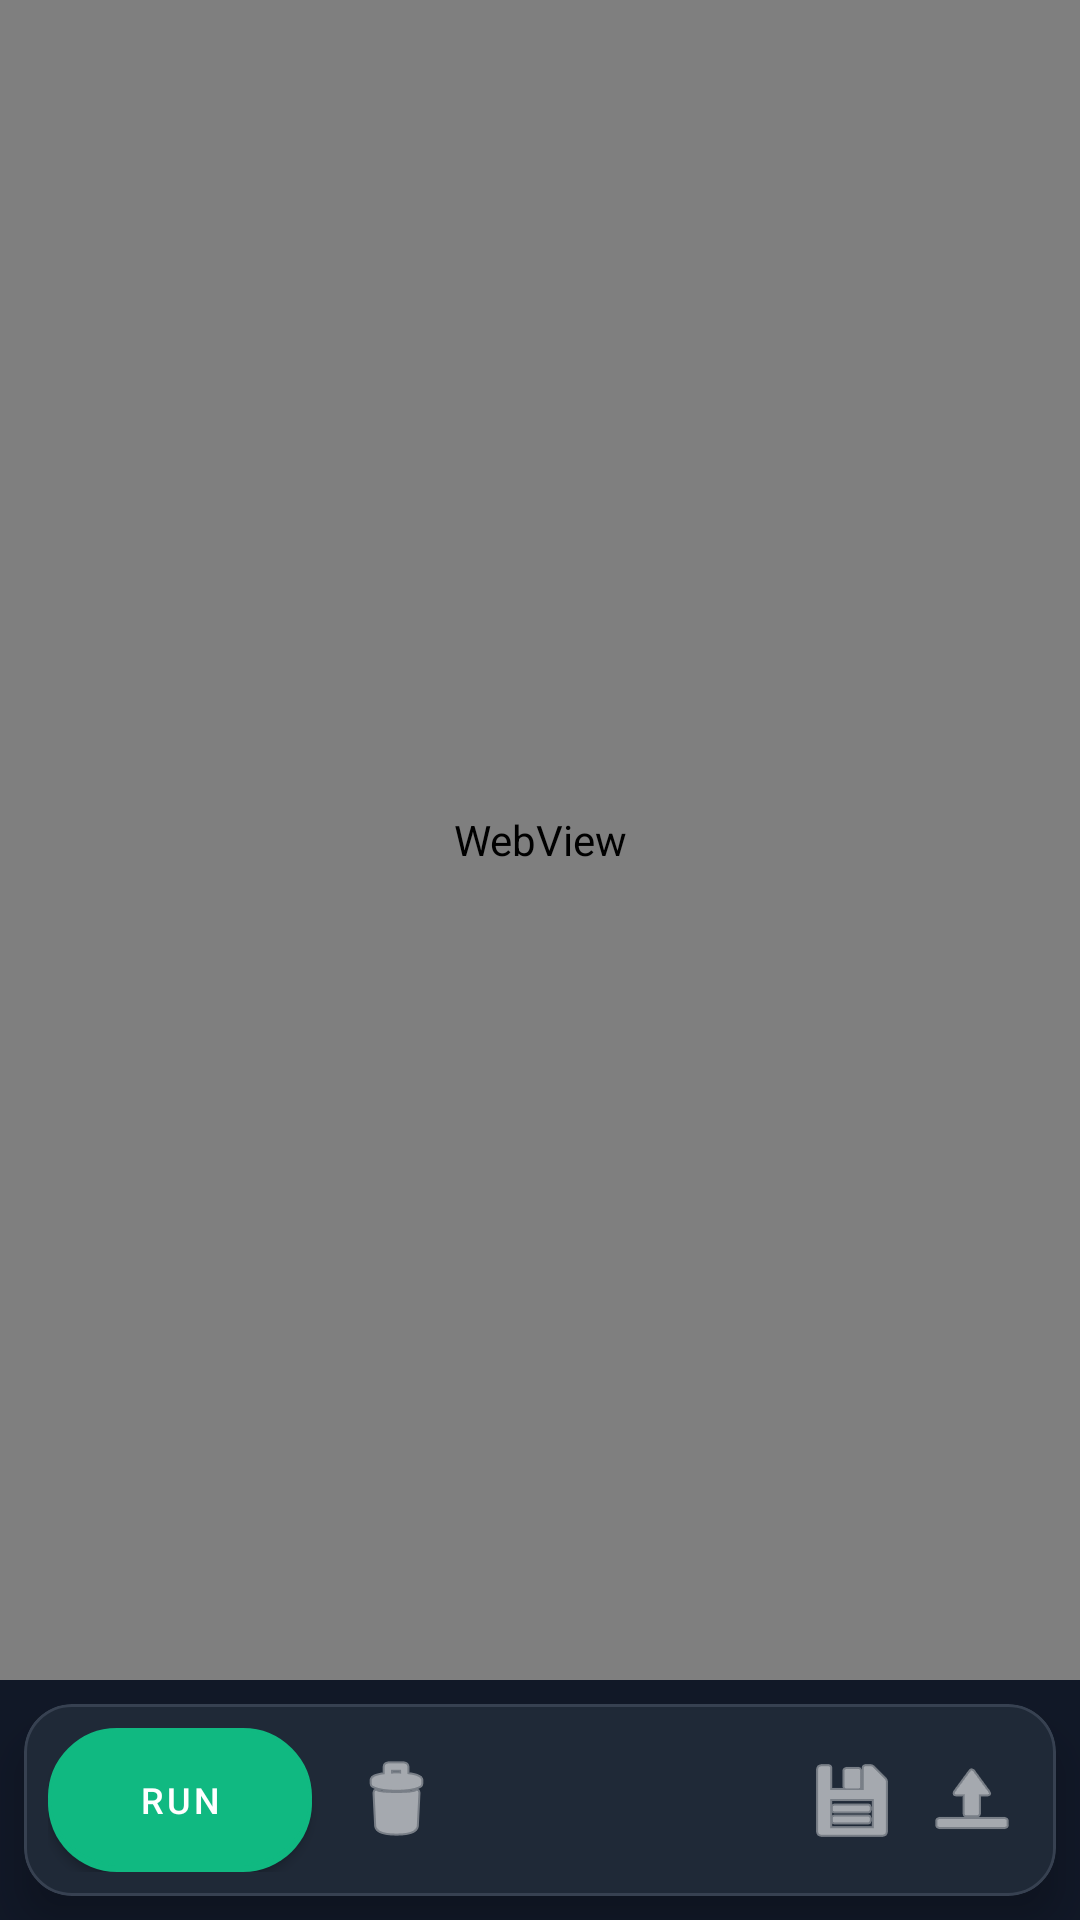

Screen size 1080px×1920px. Icon name, then its box in pixels as (x1, y1, x2, y2):
Clear Workspace: (369, 1761, 424, 1836)
Load: (935, 1768, 1009, 1829)
Save: (816, 1764, 888, 1837)
